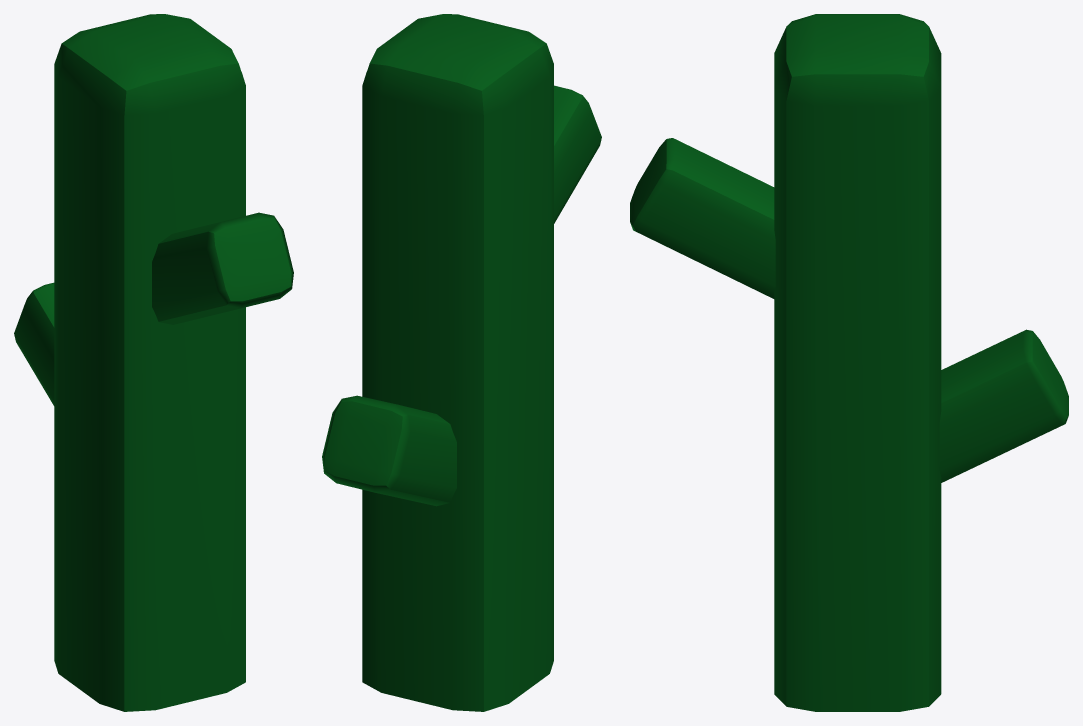
File: Cactus_1.fbx
The picture shows the model from 3 angles, left to right: view 1: azimuth 30°, elevation 25°; view 2: azimuth 150°, elevation 25°; view 3: azimuth 270°, elevation 25°; orthographic projection.
Visible parts, largest first — view 1: Cactus_1; view 2: Cactus_1; view 3: Cactus_1.
Boxes of the visible parts, box(x1,y1,x2,y2) form: Cactus_1: box(14, 14, 293, 711); Cactus_1: box(322, 14, 601, 711); Cactus_1: box(630, 14, 1068, 711).
Size of the model in its own units: 19.44 by 82.66 by 51.08.
